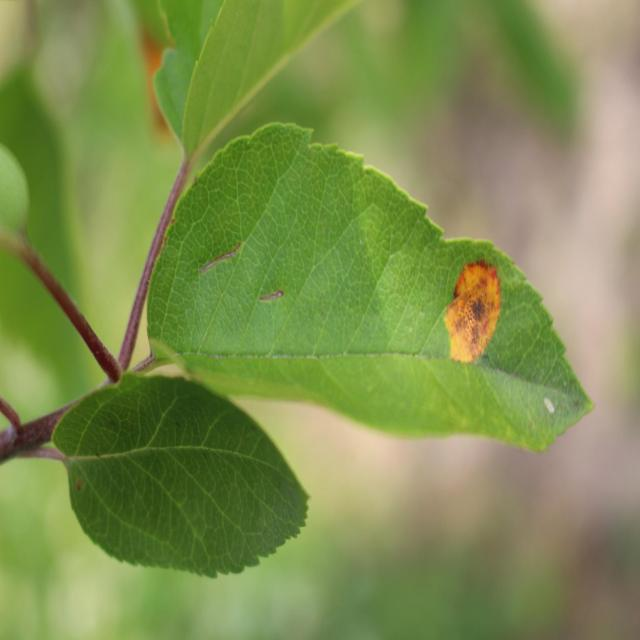Rust: (442, 259, 505, 370), (136, 16, 187, 149)
